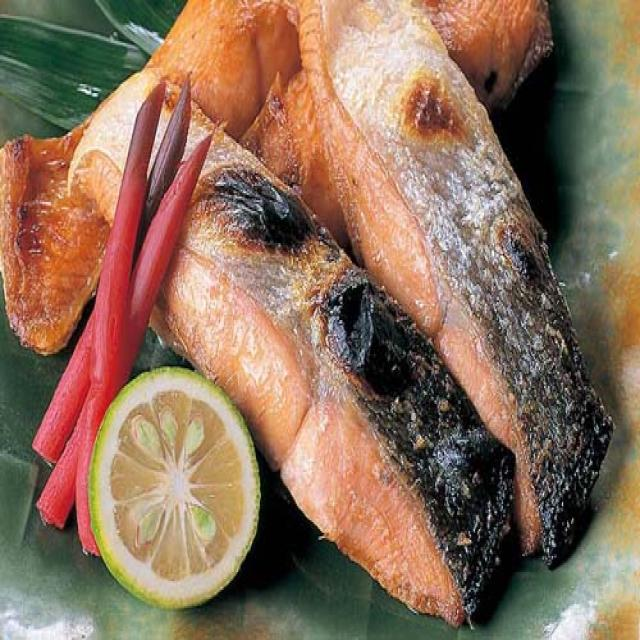熟制海鲜: (70, 0, 595, 627)
